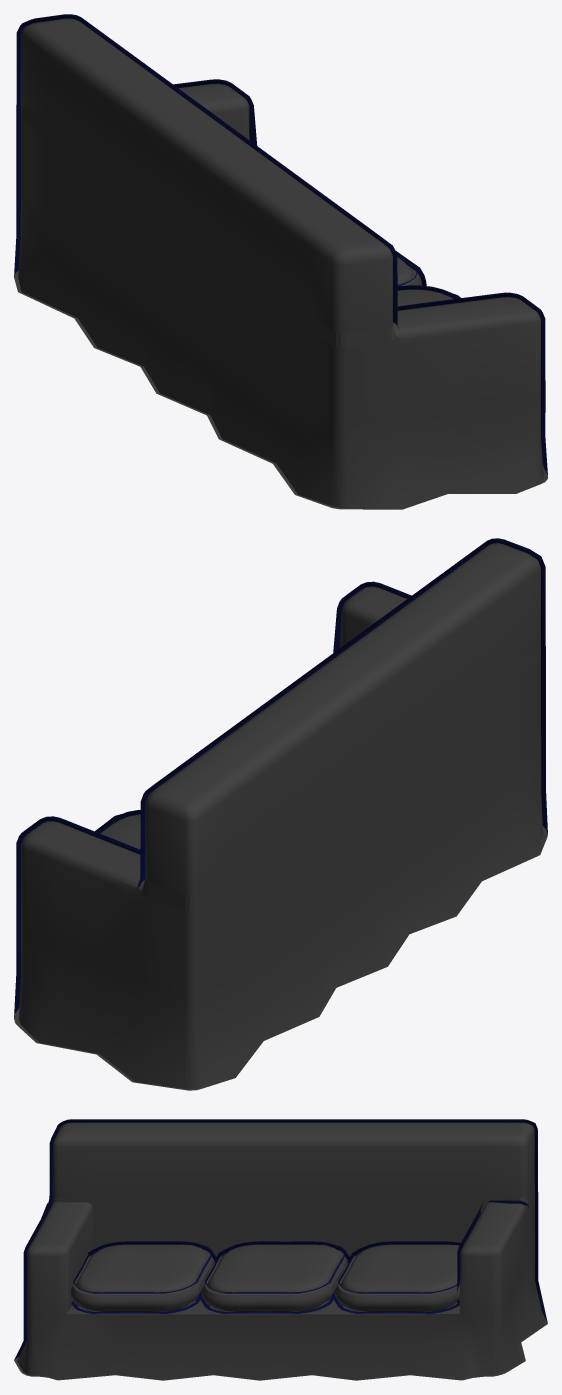
3 renders of one model, top to bottom at view 1: azimuth 30°, elevation 25°; view 2: azimuth 150°, elevation 25°; view 3: azimuth 270°, elevation 25°, orthographic. The views are drawn at different scales.
Visible parts, largest first — view 1: Couch; view 2: Couch; view 3: Couch.
Part boxes in pixels (x1,y1,x2,y2): Couch: (14,14,547,509); Couch: (14,538,547,1090); Couch: (14,1119,547,1380).
Bounding box in the file's own units: 0.7187 × 0.7934 × 2.01.
